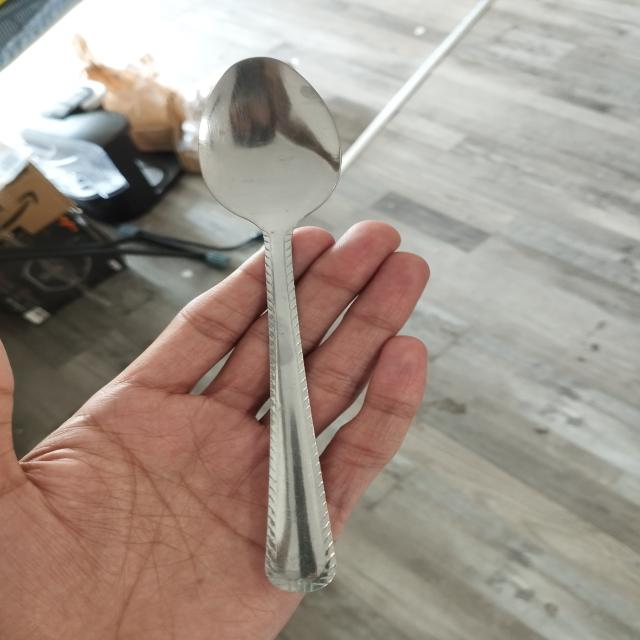Spoon: (180, 51, 389, 599)
